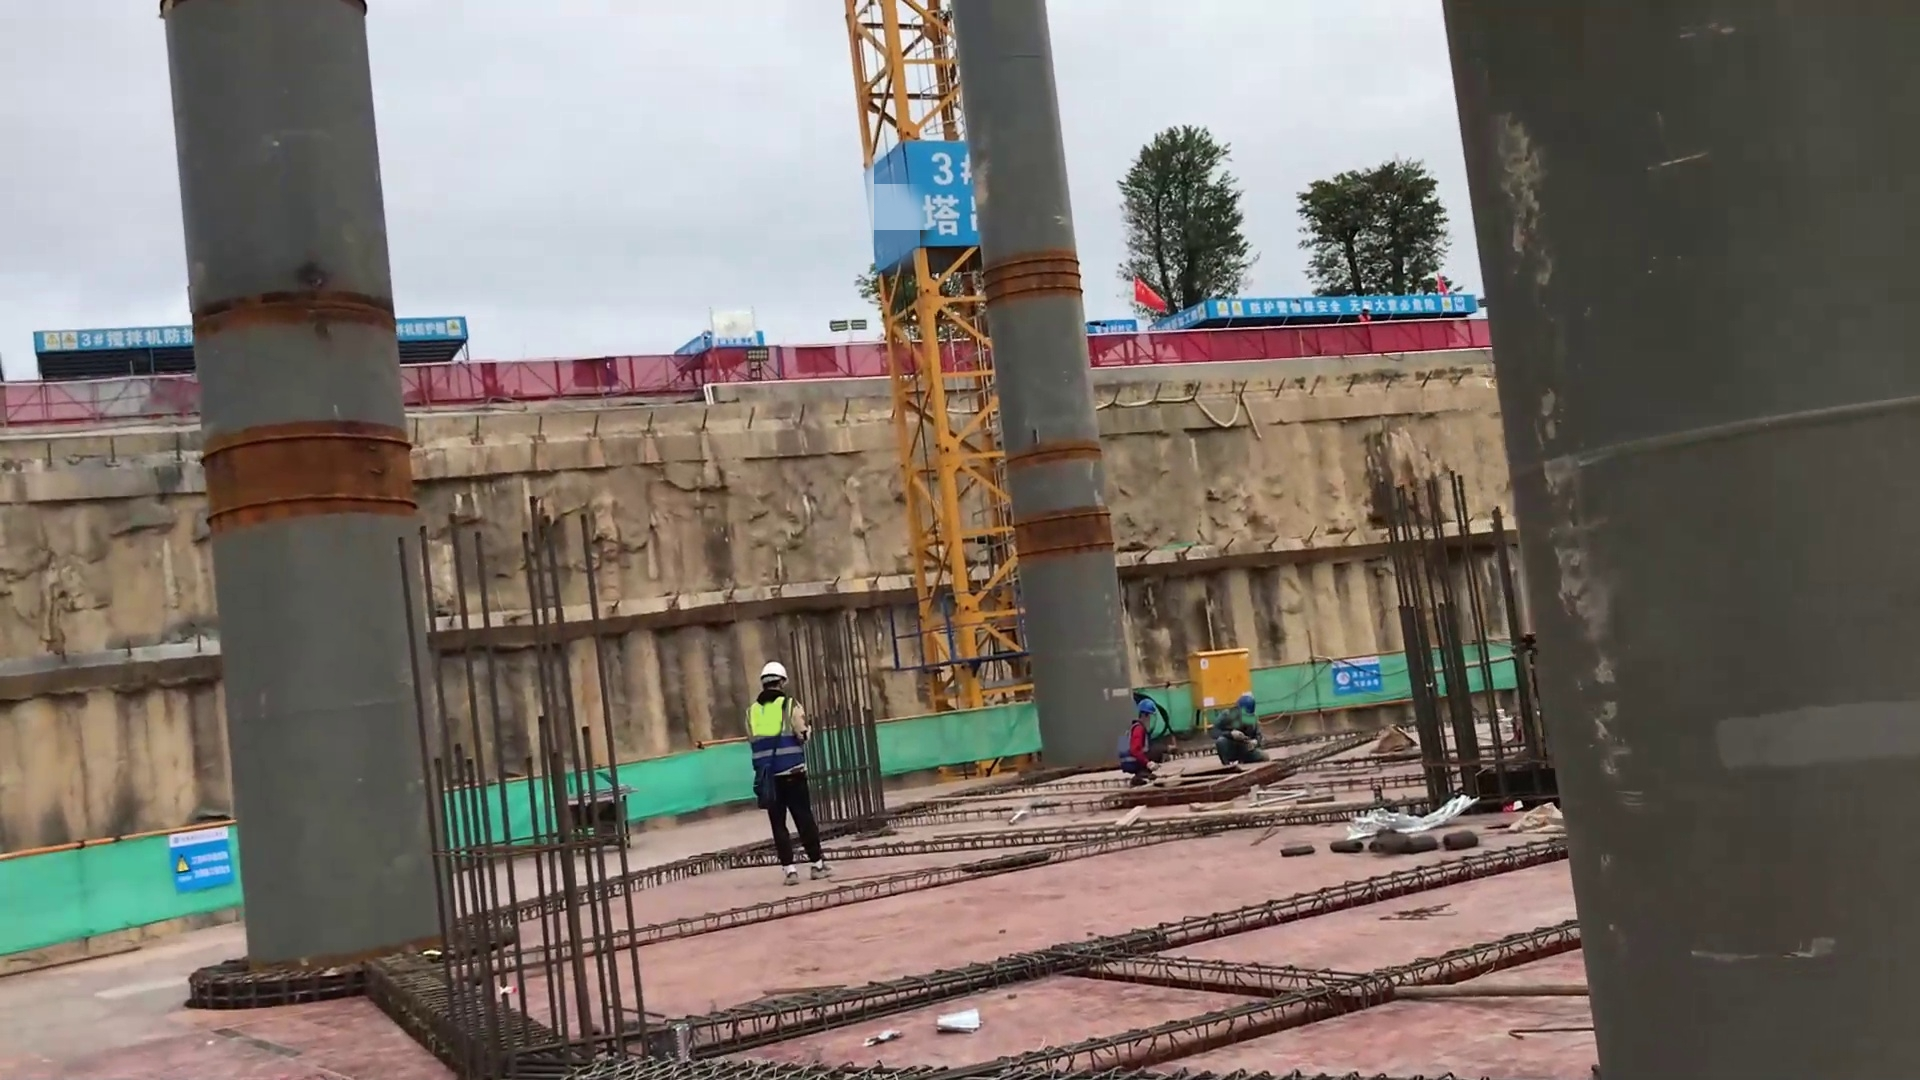cutter: (557, 783, 637, 850)
ebox: (1190, 648, 1253, 712)
fence: (403, 352, 691, 408), (1152, 320, 1475, 363)
helmet: (756, 660, 789, 686), (1236, 693, 1257, 715), (1135, 697, 1157, 716), (1362, 304, 1371, 311)
person: (740, 658, 839, 886), (1210, 692, 1272, 764), (1118, 696, 1163, 785), (1357, 303, 1372, 323)
slogan: (1151, 294, 1477, 329), (903, 138, 975, 241), (166, 820, 237, 892), (36, 326, 194, 348), (1331, 653, 1382, 695), (395, 315, 469, 342), (674, 332, 767, 351), (1086, 316, 1140, 335)
vest: (745, 691, 806, 776), (1120, 720, 1149, 770), (1358, 313, 1371, 323)
